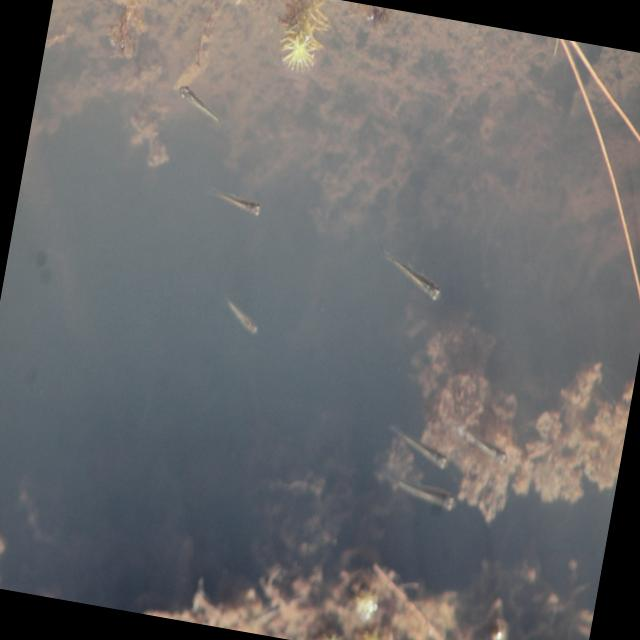Sivrisinek Baligi: (360, 224, 459, 329), (381, 416, 452, 472), (387, 470, 455, 512), (170, 77, 226, 126), (208, 183, 270, 223), (452, 421, 508, 464), (218, 291, 265, 341)
